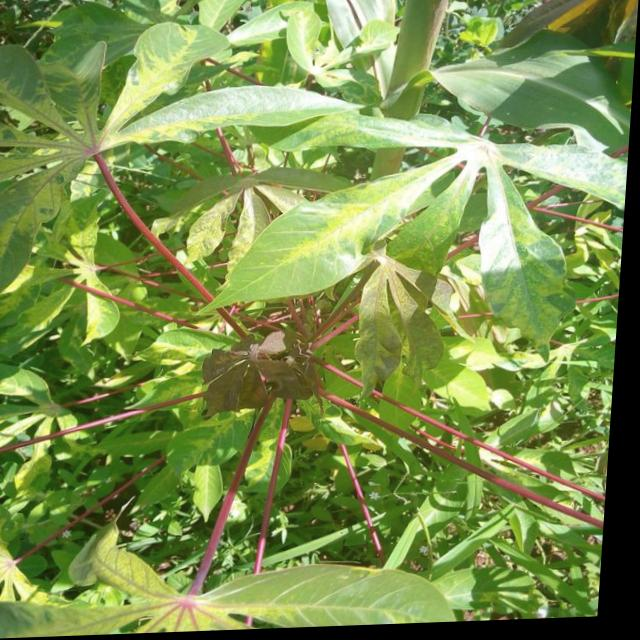Mosaico: (222, 79, 640, 304), (9, 38, 341, 247), (58, 536, 392, 640), (194, 318, 320, 414)
